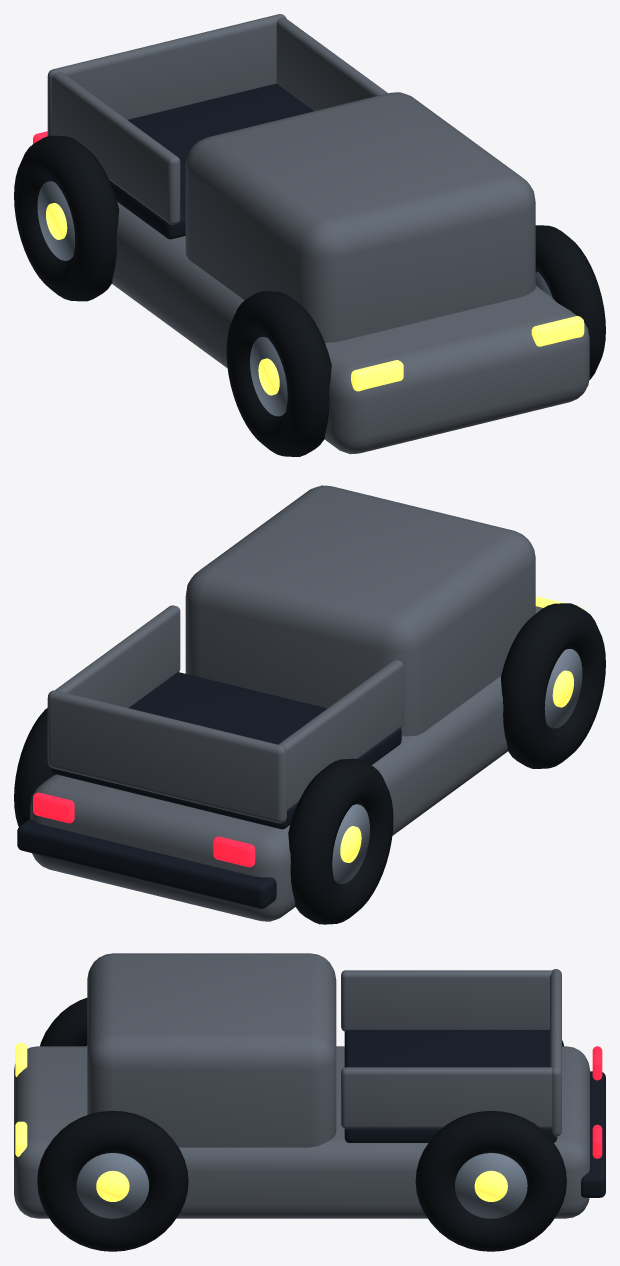
Rendered from rainline_irontrail_x.glb.
3 renders of one model, top to bottom at view 1: azimuth 30°, elevation 25°; view 2: azimuth 150°, elevation 25°; view 3: azimuth 270°, elevation 25°, orthographic. The views are drawn at different scales.
Visible parts, largest first — view 1: Irontrail cab, Irontrail frame, Irontrail tailgate, Irontrail wheel Tire, Irontrail wheel Tire.001, Irontrail bed rail, Irontrail bed floor, Irontrail bed rail.001, Irontrail wheel Tire.002, Irontrail wheel Rim, Irontrail wheel Rim.001, Irontrail headlight (+3 smaller); view 2: Irontrail cab, Irontrail frame, Irontrail tailgate, Irontrail wheel Tire, Irontrail wheel Tire.001, Irontrail bed floor, Irontrail bumper, Irontrail bed rail, Irontrail bed rail.001, Irontrail wheel Tire.003, Irontrail wheel Rim.001, Irontrail wheel Rim (+4 smaller); view 3: Irontrail cab, Irontrail frame, Irontrail wheel Tire.002, Irontrail wheel Tire.003, Irontrail bed rail, Irontrail bed rail.001, Irontrail bed floor, Irontrail wheel Rim.002, Irontrail wheel Rim.003, Irontrail bumper, Irontrail tailgate, Irontrail wheel Tire (+2 smaller).
Boxes of the visible parts, left/top/right/bottom form: Irontrail cab: left=185, top=92, right=535, bottom=342; Irontrail frame: left=112, top=202, right=589, bottom=454; Irontrail tailgate: left=47, top=14, right=286, bottom=135; Irontrail wheel Tire: left=226, top=291, right=331, bottom=456; Irontrail wheel Tire.001: left=14, top=135, right=119, bottom=301; Irontrail bed rail: left=52, top=71, right=180, bottom=224; Irontrail bed floor: left=109, top=83, right=314, bottom=239; Irontrail bed rail.001: left=276, top=17, right=387, bottom=110; Irontrail wheel Tire.002: left=535, top=225, right=605, bottom=379; Irontrail wheel Rim: left=250, top=337, right=287, bottom=416; Irontrail wheel Rim.001: left=37, top=181, right=75, bottom=260; Irontrail headlight: left=351, top=360, right=403, bottom=391; Irontrail cab: left=185, top=485, right=535, bottom=736; Irontrail frame: left=30, top=606, right=542, bottom=921; Irontrail tailgate: left=47, top=690, right=286, bottom=823; Irontrail wheel Tire: left=500, top=603, right=605, bottom=768; Irontrail wheel Tire.001: left=288, top=758, right=393, bottom=924; Irontrail bed floor: left=51, top=672, right=401, bottom=829; Irontrail bumper: left=17, top=819, right=276, bottom=908; Irontrail bed rail: left=278, top=660, right=403, bottom=810; Irontrail bed rail.001: left=55, top=605, right=180, bottom=707; Irontrail wheel Tire.003: left=14, top=708, right=55, bottom=826; Irontrail wheel Rim.001: left=332, top=804, right=369, bottom=883; Irontrail wheel Rim: left=544, top=649, right=582, bottom=728; Irontrail cab: left=87, top=953, right=336, bottom=1147; Irontrail frame: left=14, top=1046, right=589, bottom=1218; Irontrail wheel Tire.002: left=37, top=1111, right=188, bottom=1251; Irontrail wheel Tire.003: left=415, top=1110, right=566, bottom=1251; Irontrail bed rail: left=341, top=970, right=552, bottom=1031; Irontrail bed rail.001: left=341, top=1067, right=552, bottom=1128; Irontrail bed floor: left=344, top=1030, right=557, bottom=1142; Irontrail wheel Rim.002: left=76, top=1153, right=149, bottom=1218; Irontrail wheel Rim.003: left=455, top=1153, right=527, bottom=1218; Irontrail bumper: left=581, top=1071, right=605, bottom=1197; Irontrail tailgate: left=550, top=969, right=561, bottom=1136; Irontrail wheel Tire: left=40, top=998, right=87, bottom=1046.
Size of the model in its own units: 2.63 by 1.77 by 4.85.
